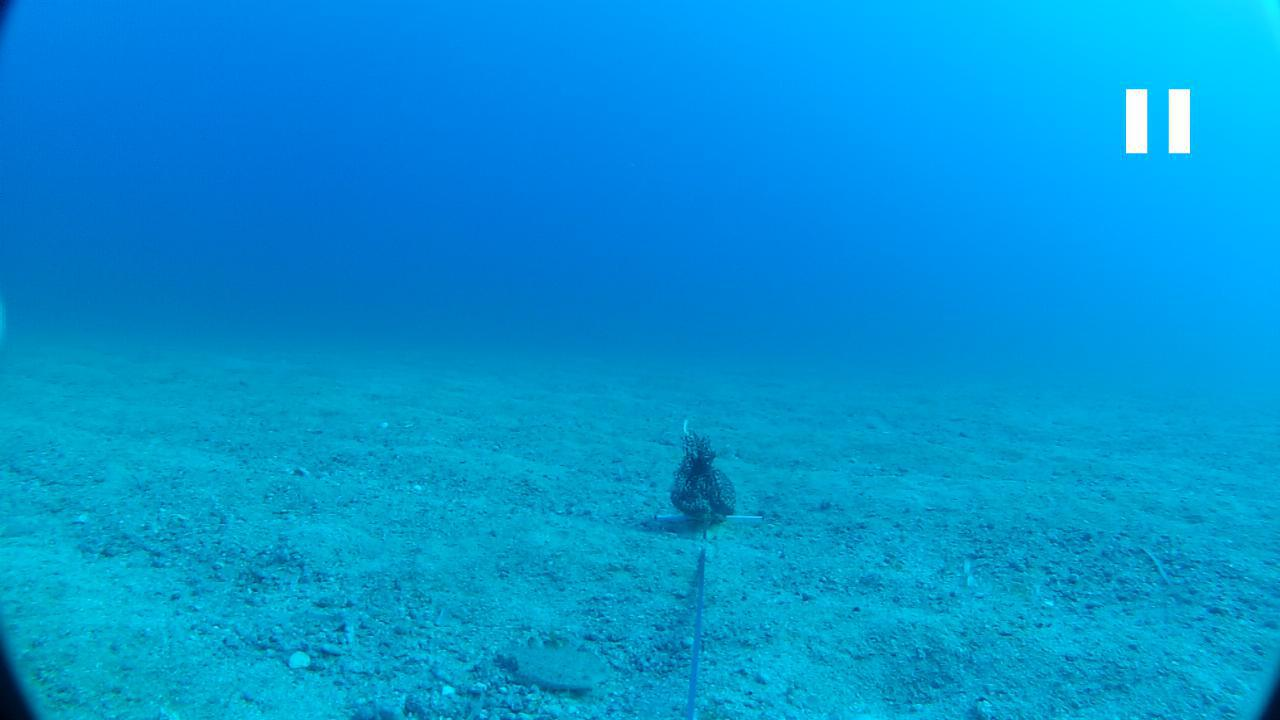bothus: (495, 635, 619, 695)
